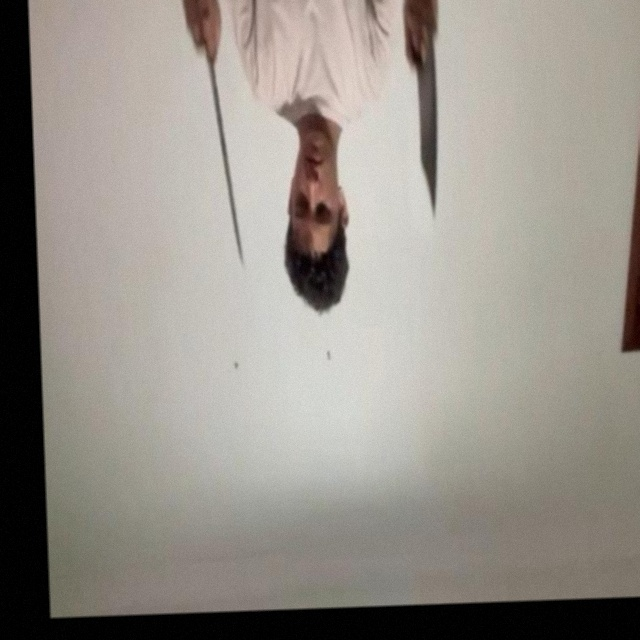Sharp-Object: (212, 66, 243, 261), (417, 43, 442, 218)
